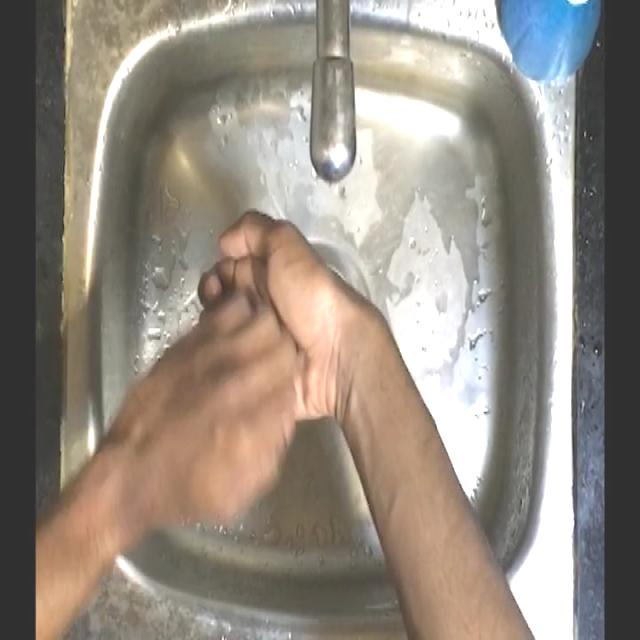step_4: (147, 192, 350, 550)
